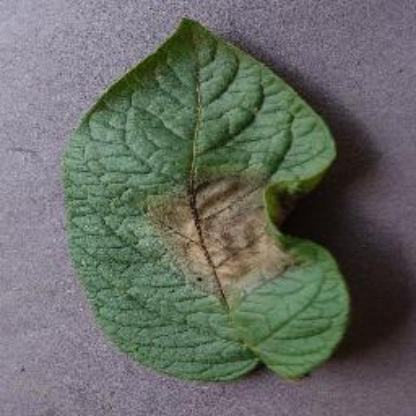Late-Blight: (61, 15, 357, 384)
